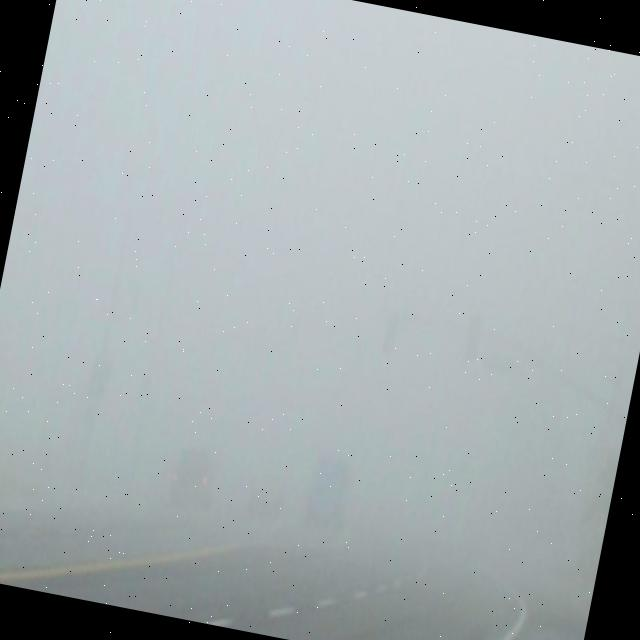bus: (296, 443, 359, 537)
car: (166, 441, 222, 513), (247, 466, 290, 521)
